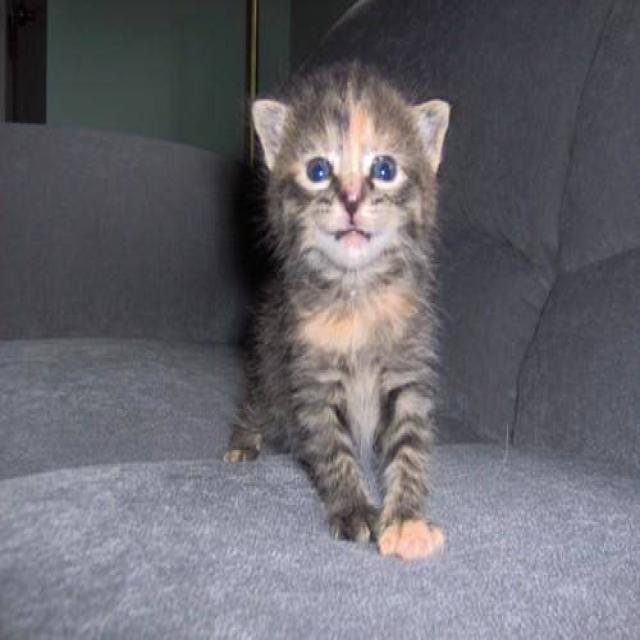cat: (221, 55, 452, 561)
